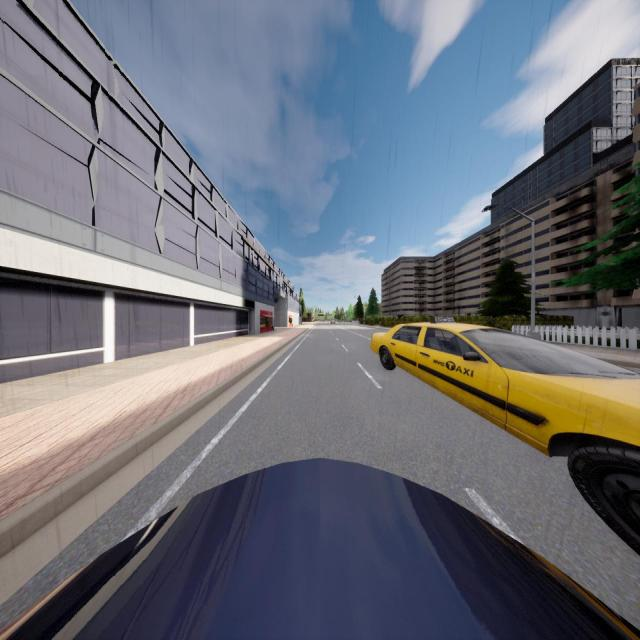Vehicle: (0, 455, 640, 640), (370, 314, 640, 554), (330, 318, 336, 325)
